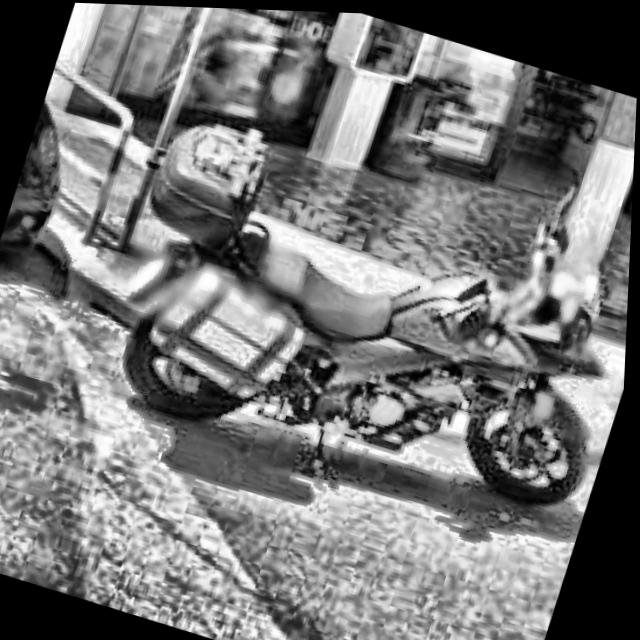motorcycle: (72, 74, 638, 557)
